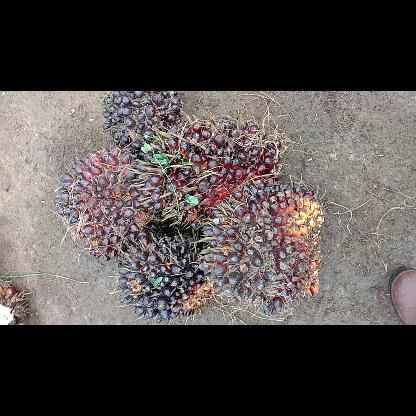TBS mentah: (198, 176, 324, 320), (134, 117, 289, 229), (53, 144, 164, 262), (116, 228, 214, 322), (98, 91, 182, 153)
